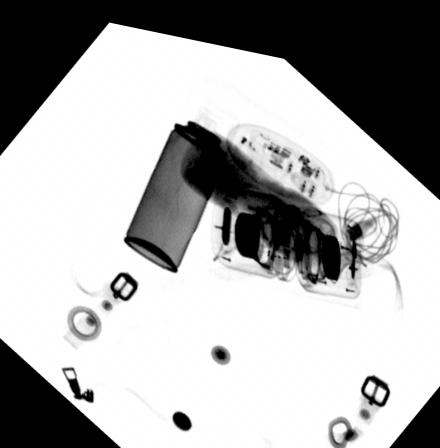Sprayer: (121, 82, 239, 266)
